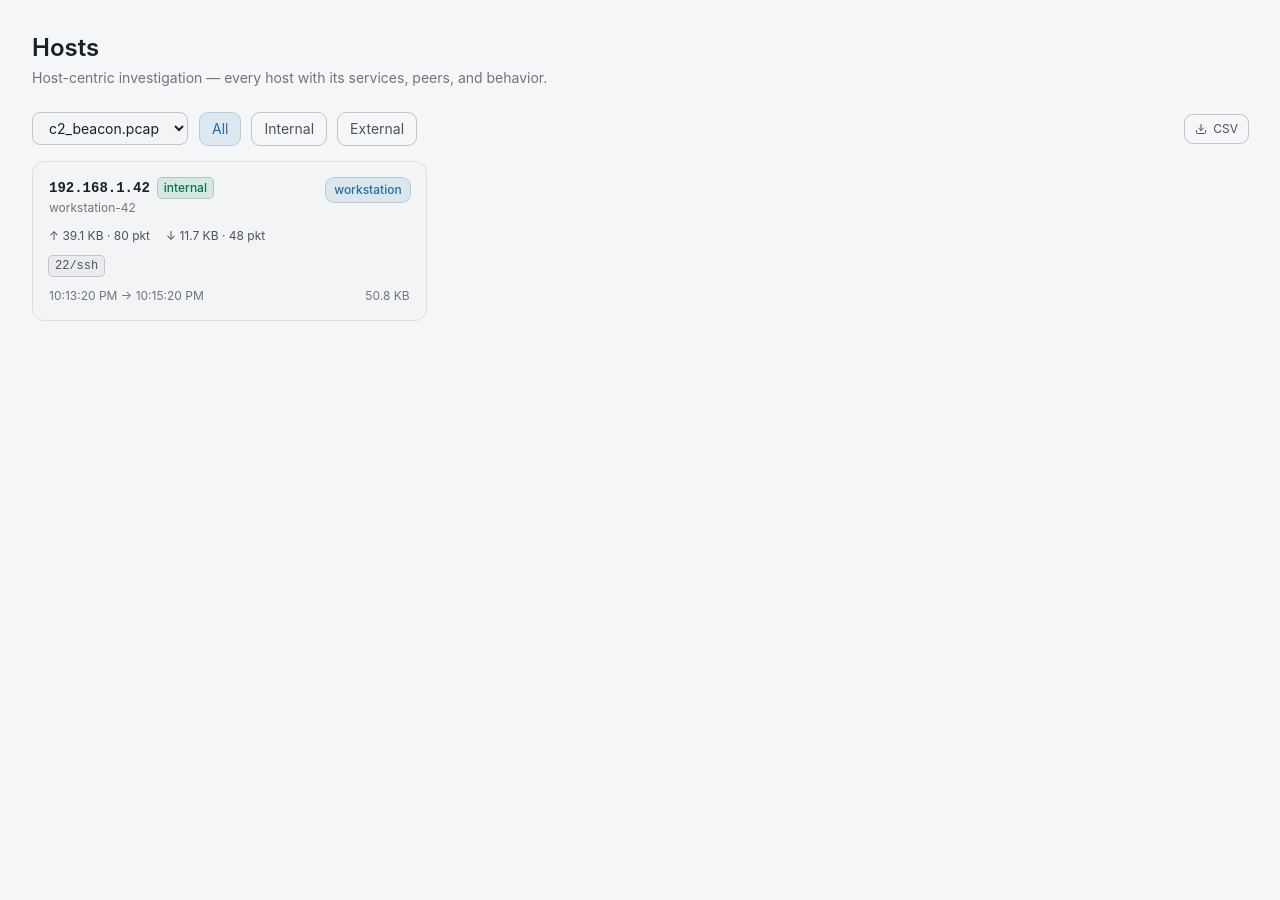
Scenario: HostsPage › clicking a host card opens the detail overlay (raw overlay, not shared Modal)
The image size is (1280, 900).
Click the text "192.168.1.42".
click(99, 188)  # box [49,178,150,198]
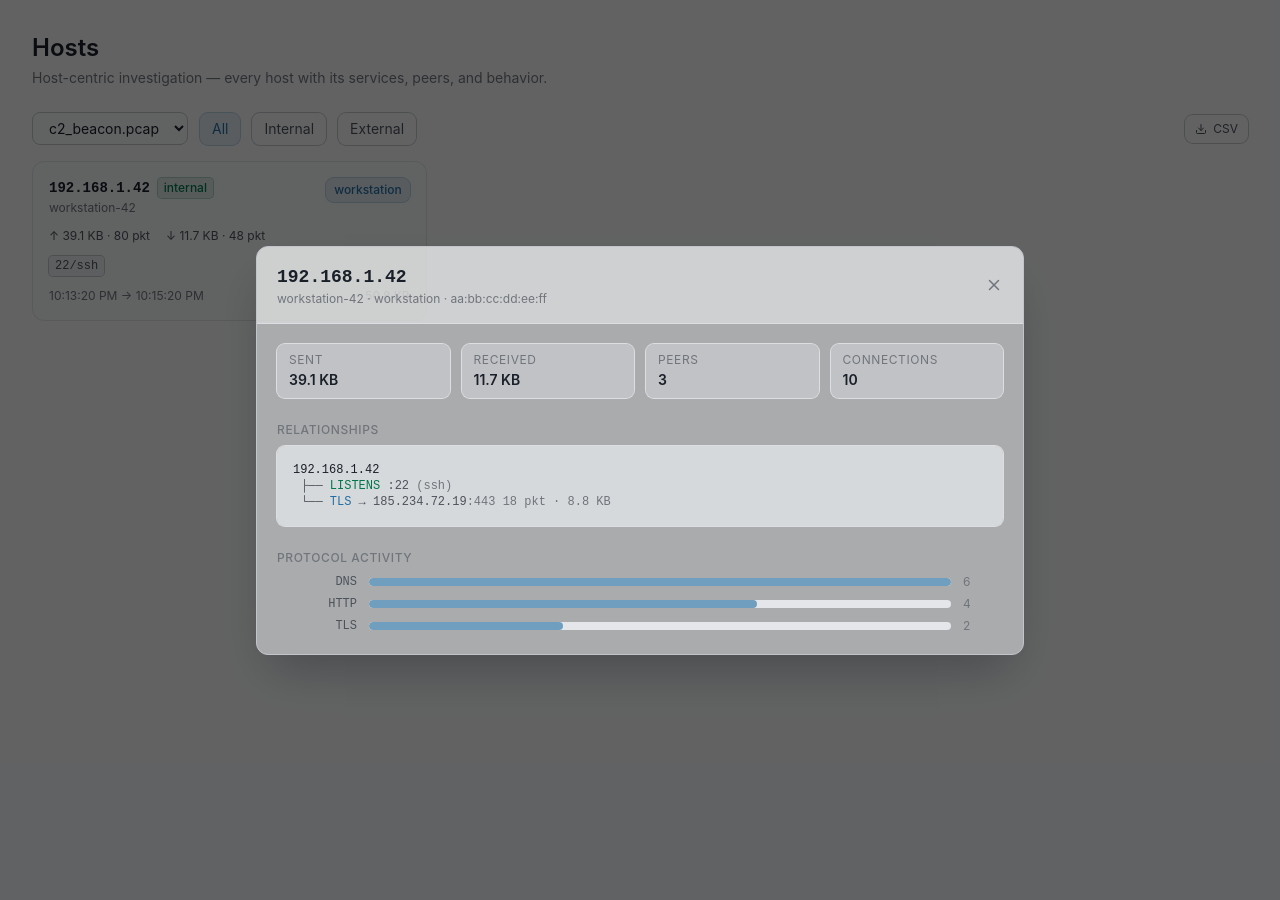
Expected: the element with class "z-50" is shown
Expected: the element with class "z-50" shows "workstation-42", [277,290,374,306]
